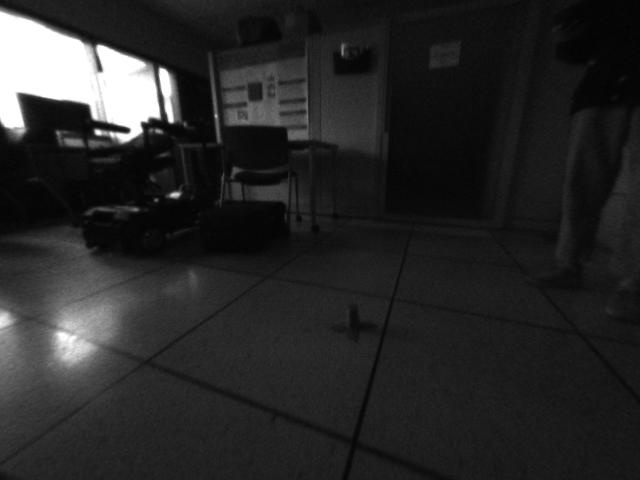x: (335, 302, 372, 348)
